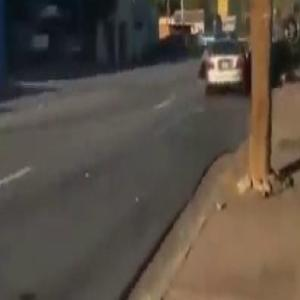serious: (239, 10, 300, 94)
